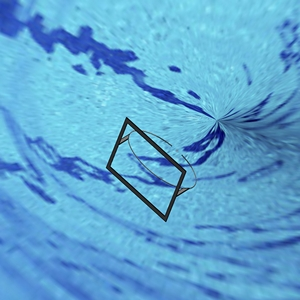circle: (105, 114, 199, 222)
